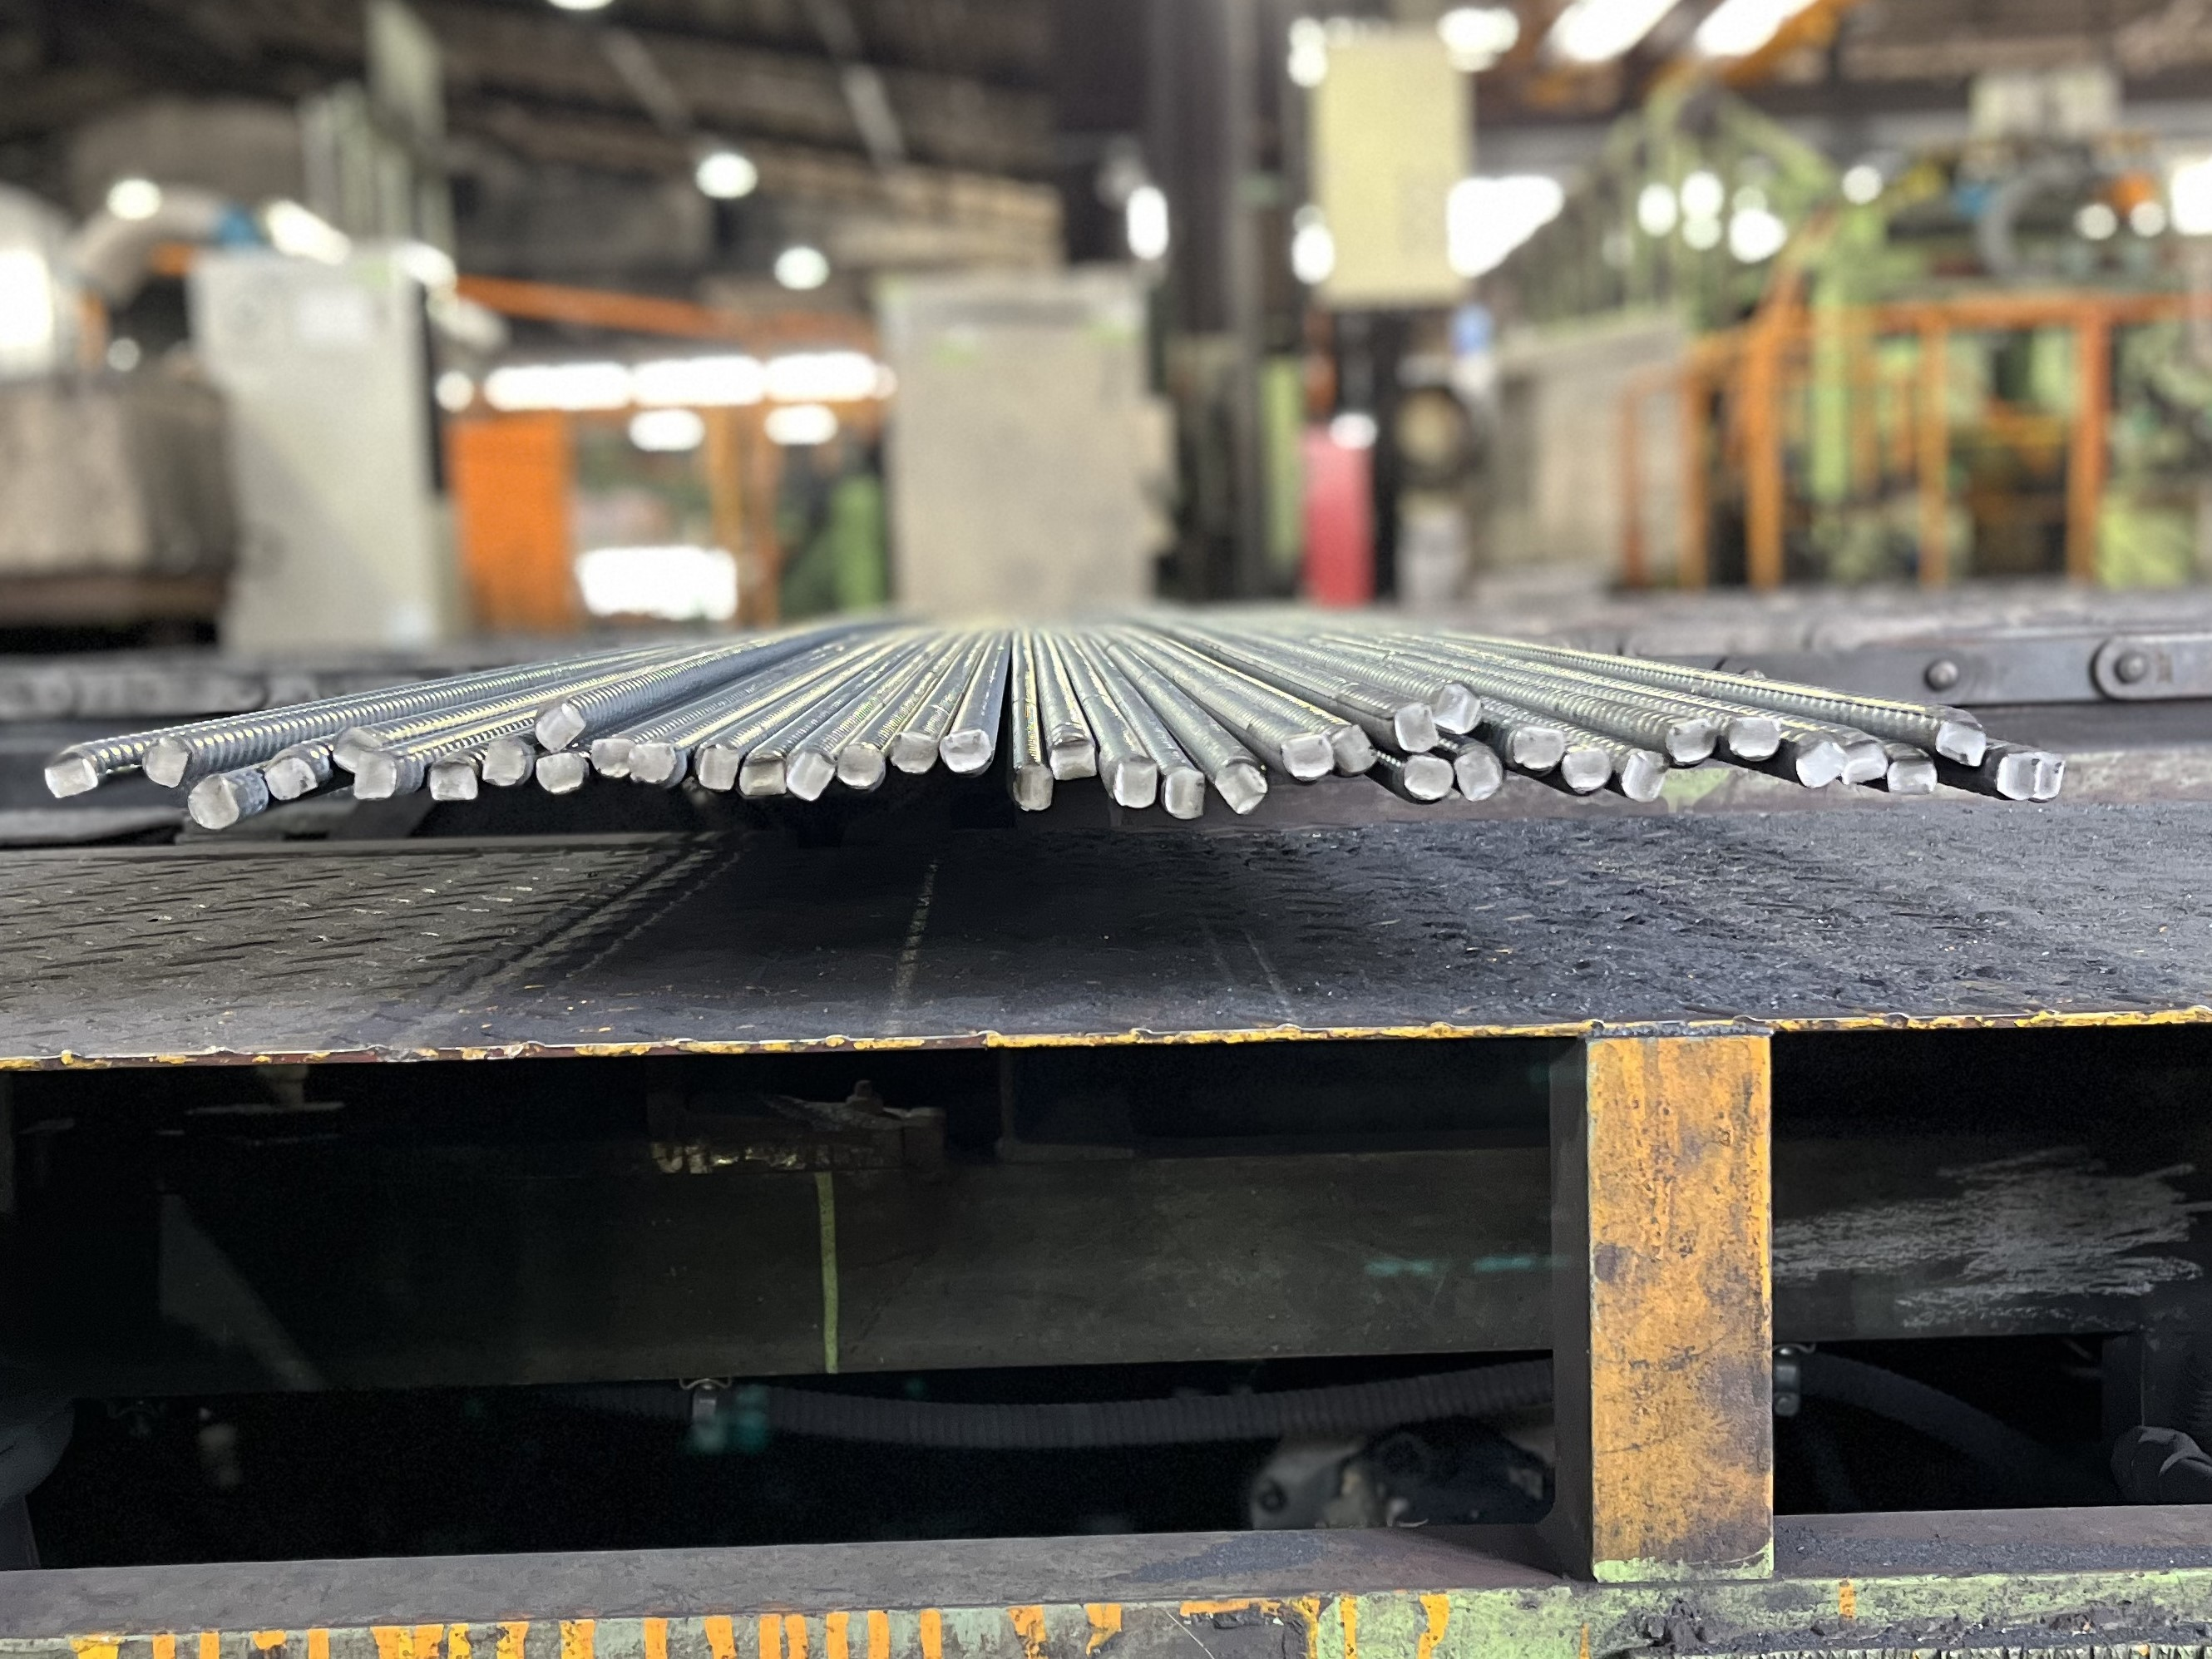rod: (1212, 758, 1271, 817), (185, 774, 242, 831), (1432, 680, 1487, 737), (531, 699, 590, 753), (481, 734, 535, 789), (1451, 746, 1505, 802), (784, 746, 836, 803), (139, 734, 192, 789), (1792, 737, 1848, 789), (1933, 716, 1987, 769), (1280, 732, 1336, 782), (1111, 755, 1160, 812), (42, 753, 101, 800), (261, 755, 320, 802), (1726, 713, 1782, 762), (1047, 732, 1099, 782), (1331, 721, 1379, 775), (1400, 753, 1454, 802), (1512, 721, 1566, 770), (1559, 746, 1613, 795), (1618, 749, 1667, 803), (533, 753, 590, 798), (937, 728, 995, 774), (350, 749, 399, 802), (836, 742, 888, 791), (1392, 702, 1440, 755), (1665, 718, 1719, 765), (1991, 751, 2040, 802), (1010, 760, 1057, 812), (1839, 737, 1892, 784), (1885, 753, 1940, 796), (691, 742, 738, 793), (331, 727, 383, 772), (1163, 767, 1207, 821), (737, 751, 786, 798), (888, 730, 941, 774), (590, 735, 637, 781), (627, 742, 678, 784), (430, 762, 479, 803), (2040, 748, 2064, 803)
